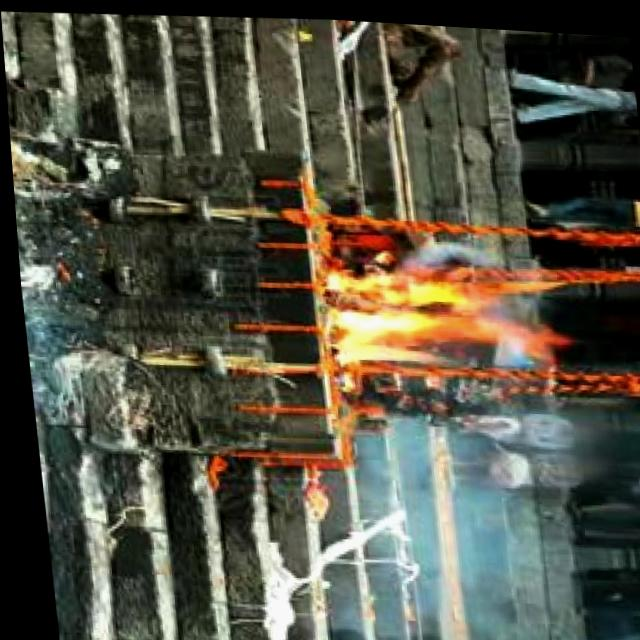helmet: (310, 252, 541, 378)
